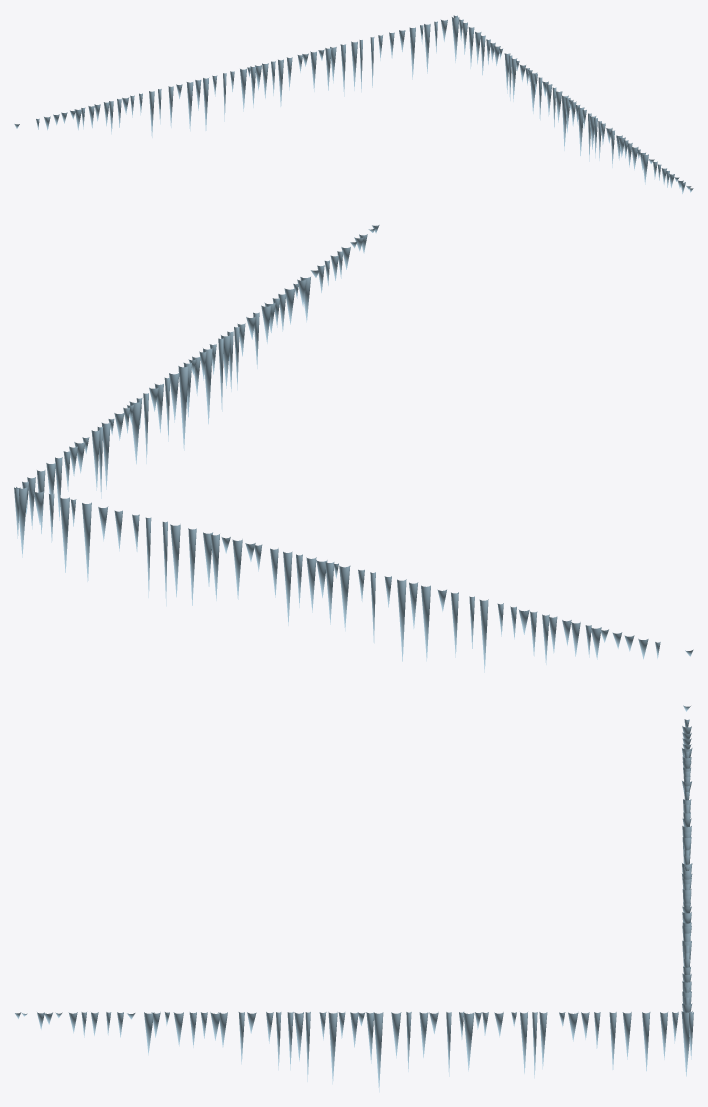
File: icicles.glb
3 renders of one model, top to bottom at view 1: azimuth 30°, elevation 25°; view 2: azimuth 150°, elevation 25°; view 3: azimuth 270°, elevation 25°, orthographic. The views are drawn at different scales.
Visible parts, largest first — view 1: icicles.001; view 2: icicles.001; view 3: icicles.001.
Part boxes in pixels (left/top/right/bottom): icicles.001: left=14, top=15, right=693, bottom=193; icicles.001: left=14, top=225, right=693, bottom=672; icicles.001: left=15, top=705, right=693, bottom=1092.
Size of the model in its own units: 429 by 52.89 by 396.
